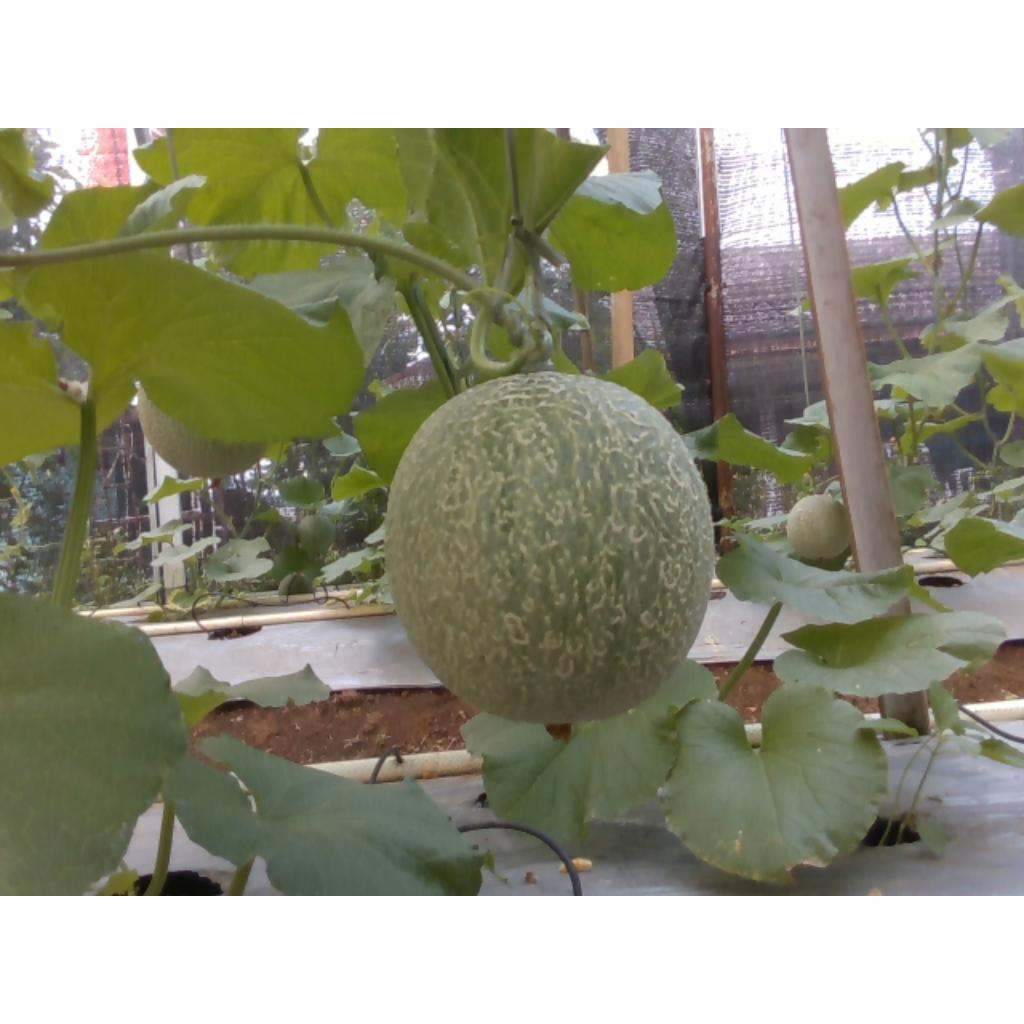melon: (387, 371, 715, 724)
